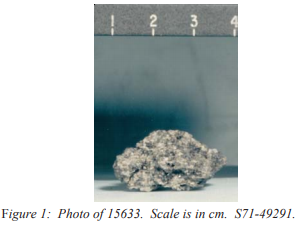Basalt: (112, 120, 229, 200)
